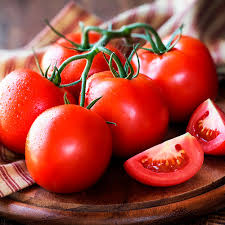tomate: (16, 31, 214, 190)
